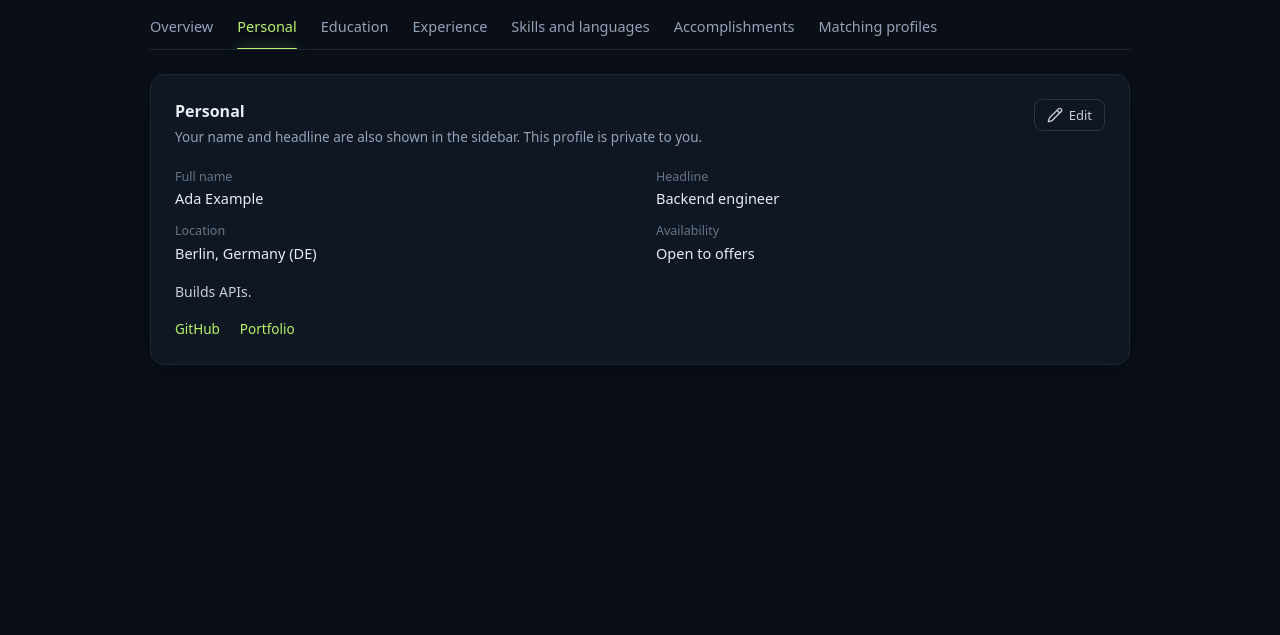
Scenario: Personal: editing › puts the server complaint on the field the 422 names
Click the button with aria-label "Edit Personal" at (1069, 115), box top-left (1034, 99), bottom-right (1105, 131)
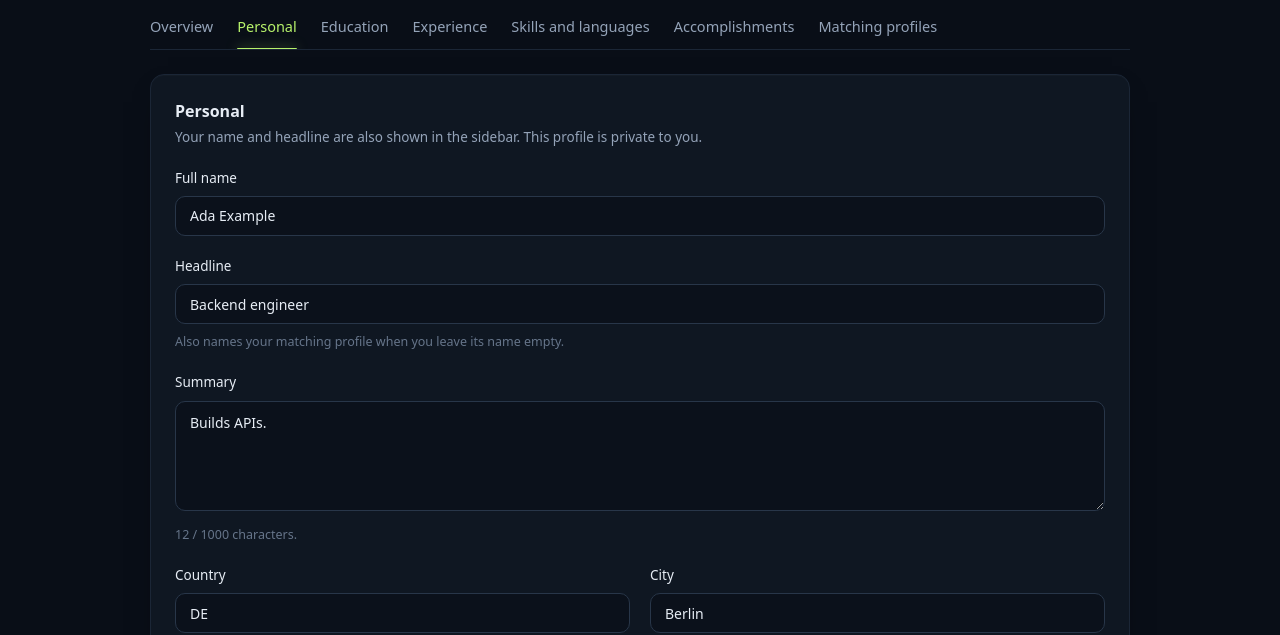
Type " Jr" into the field labelled "Full name" at (640, 216), box top-left (175, 196), bottom-right (1105, 236)
(page scrolled)
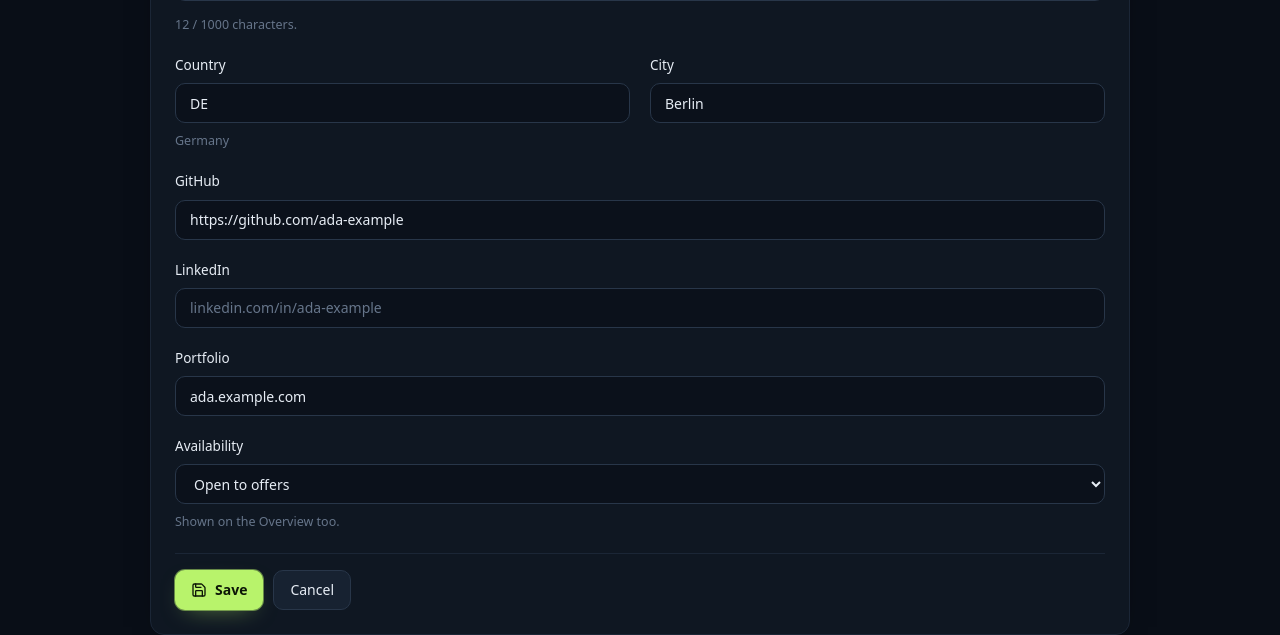
Click the button "Save" at (219, 590), box top-left (175, 570), bottom-right (263, 610)
(page scrolled)
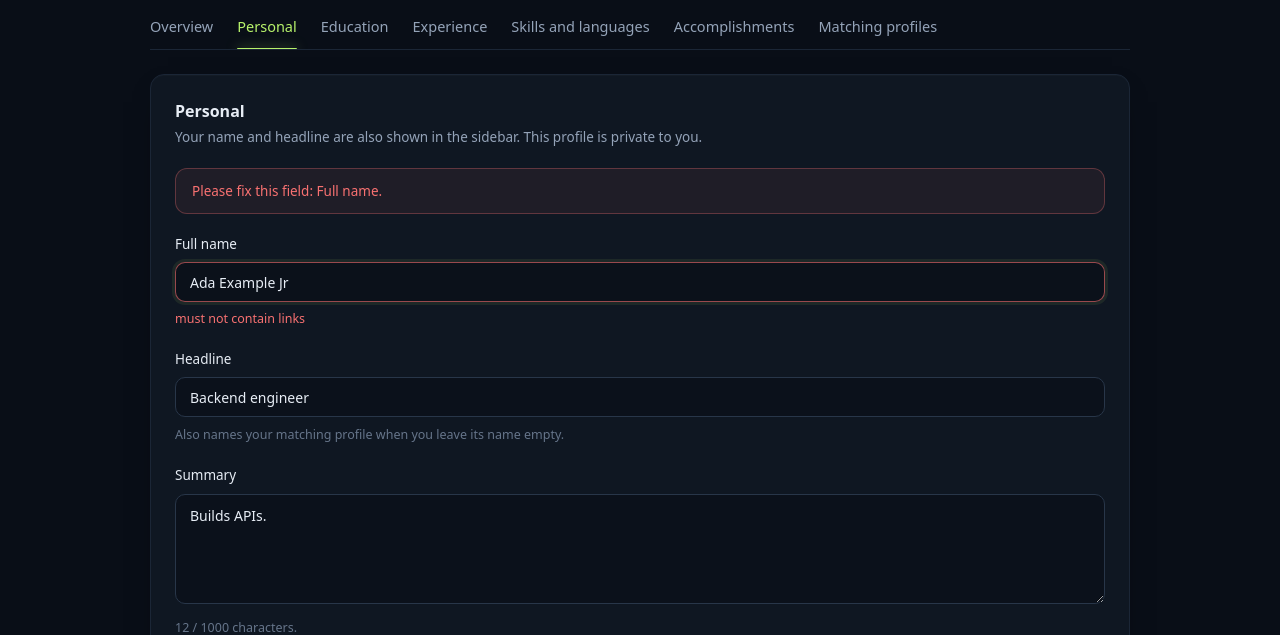
Expected: the text "must not contain links" is shown, top-left (175, 310), bottom-right (305, 327)
Expected: the text "Please fix this field: Full name." is shown, top-left (175, 168), bottom-right (1105, 214)
Type "x" into the field labelled "Full name" at (640, 282), box top-left (175, 262), bottom-right (1105, 302)
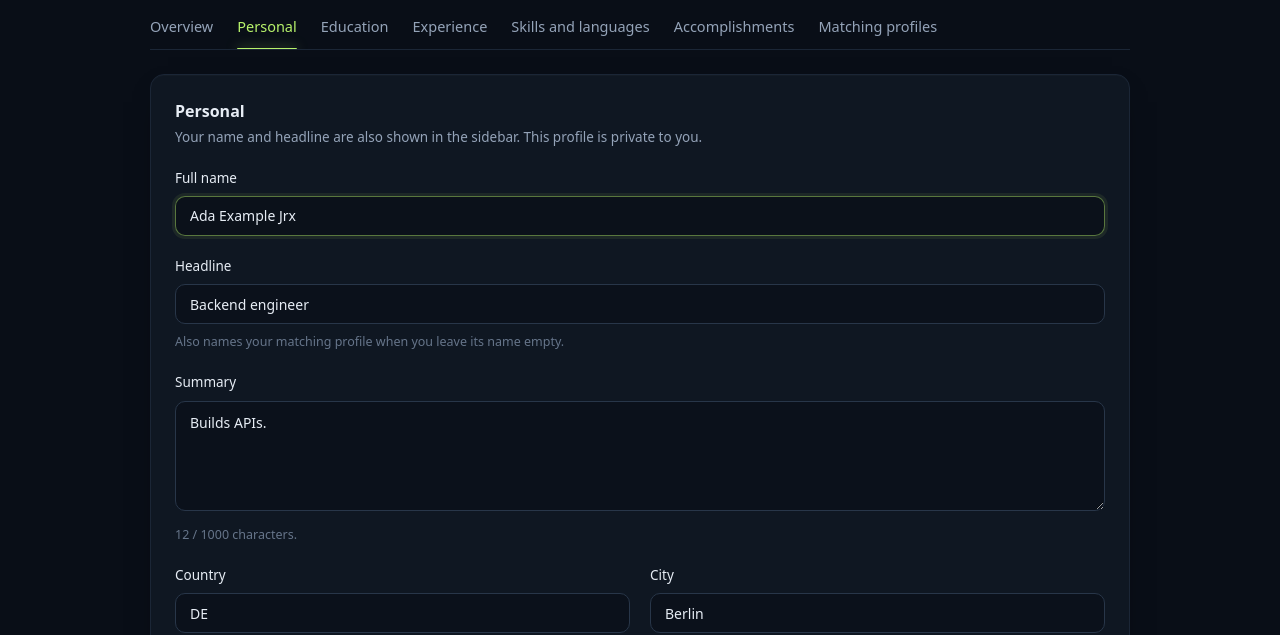
Expected: the text "must not contain links" is gone
